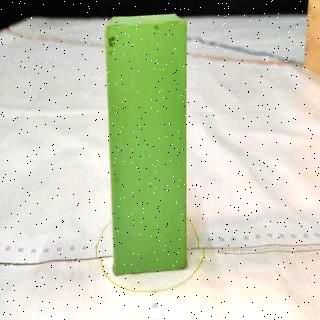greenbox: (107, 14, 188, 275)
